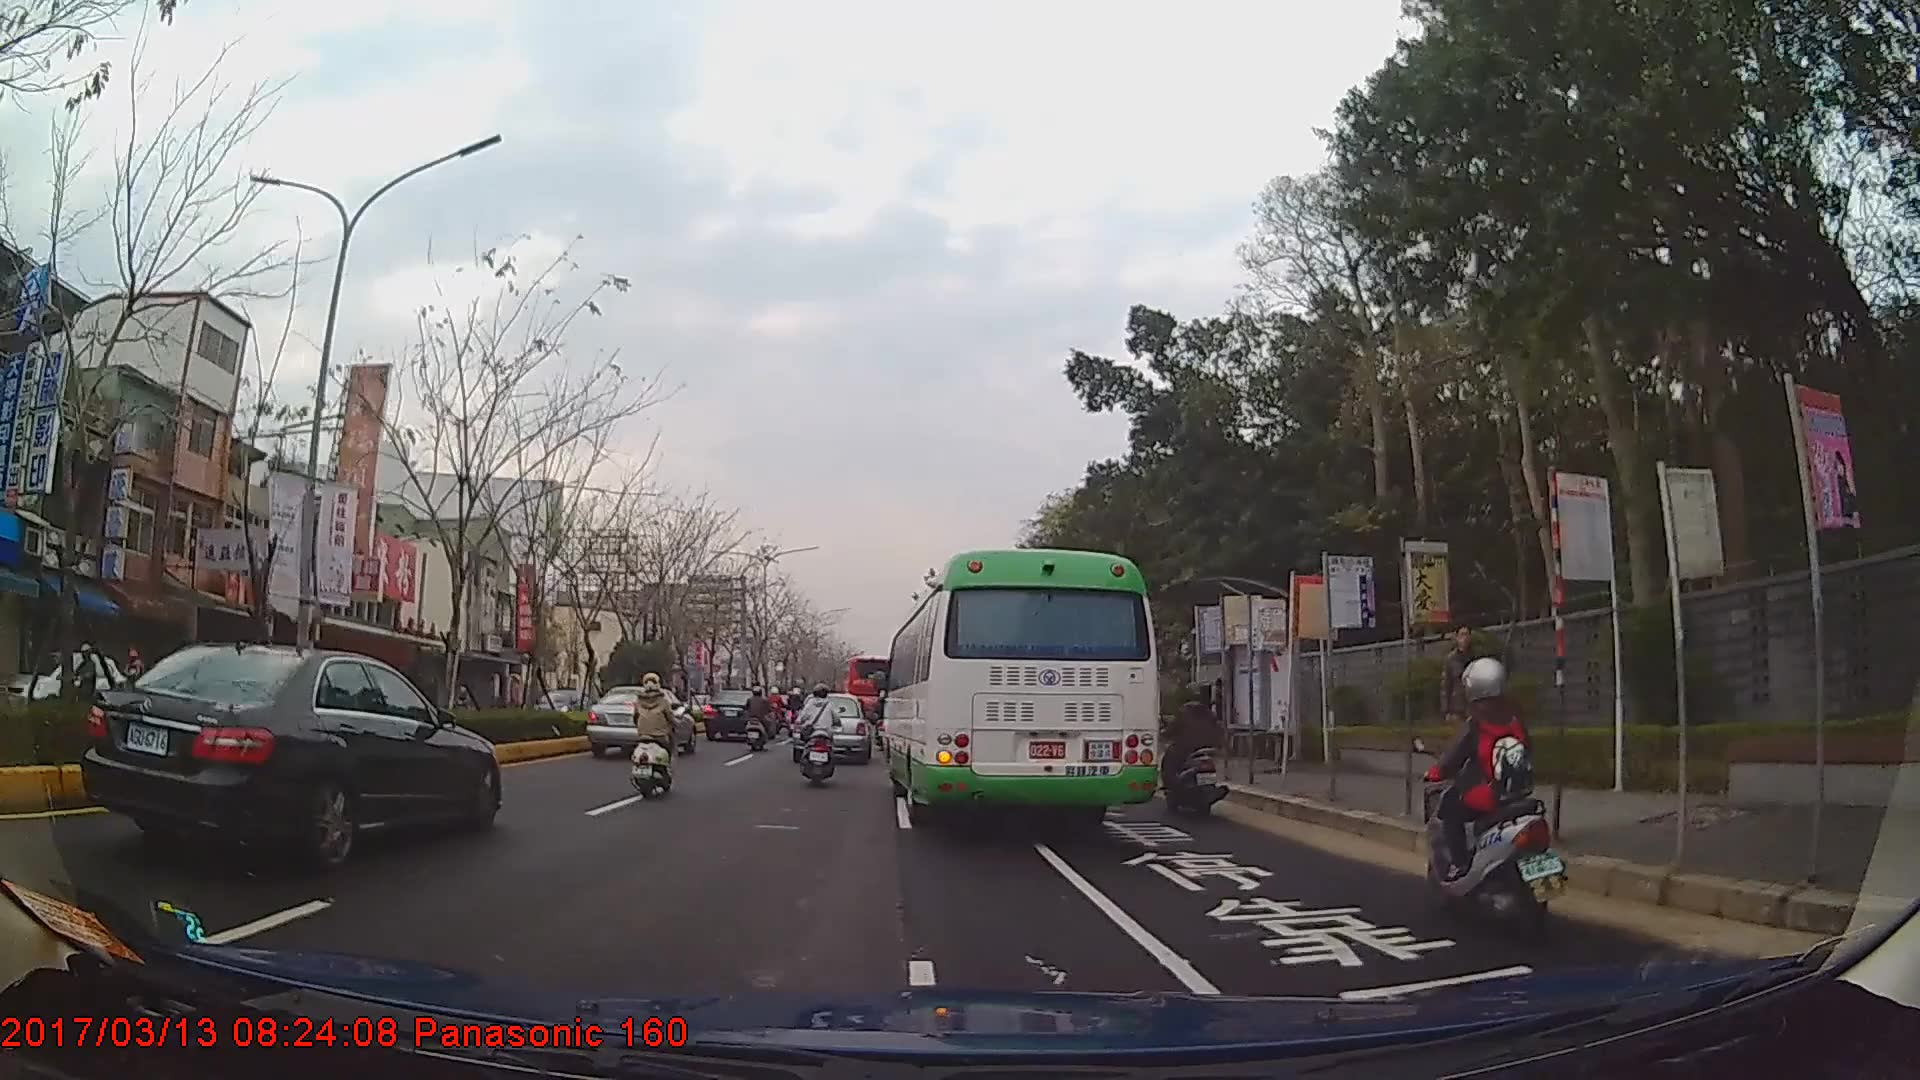pedestrian: (1441, 620, 1496, 790)
rider: (1415, 655, 1565, 936), (1161, 681, 1229, 816), (628, 675, 677, 797), (798, 683, 843, 780), (57, 644, 106, 709), (103, 647, 151, 702), (745, 683, 775, 748), (788, 685, 808, 724)
vehicle: (79, 638, 498, 873), (879, 546, 1159, 829), (1, 646, 135, 728), (586, 682, 696, 753), (790, 690, 872, 762), (704, 684, 773, 740)
